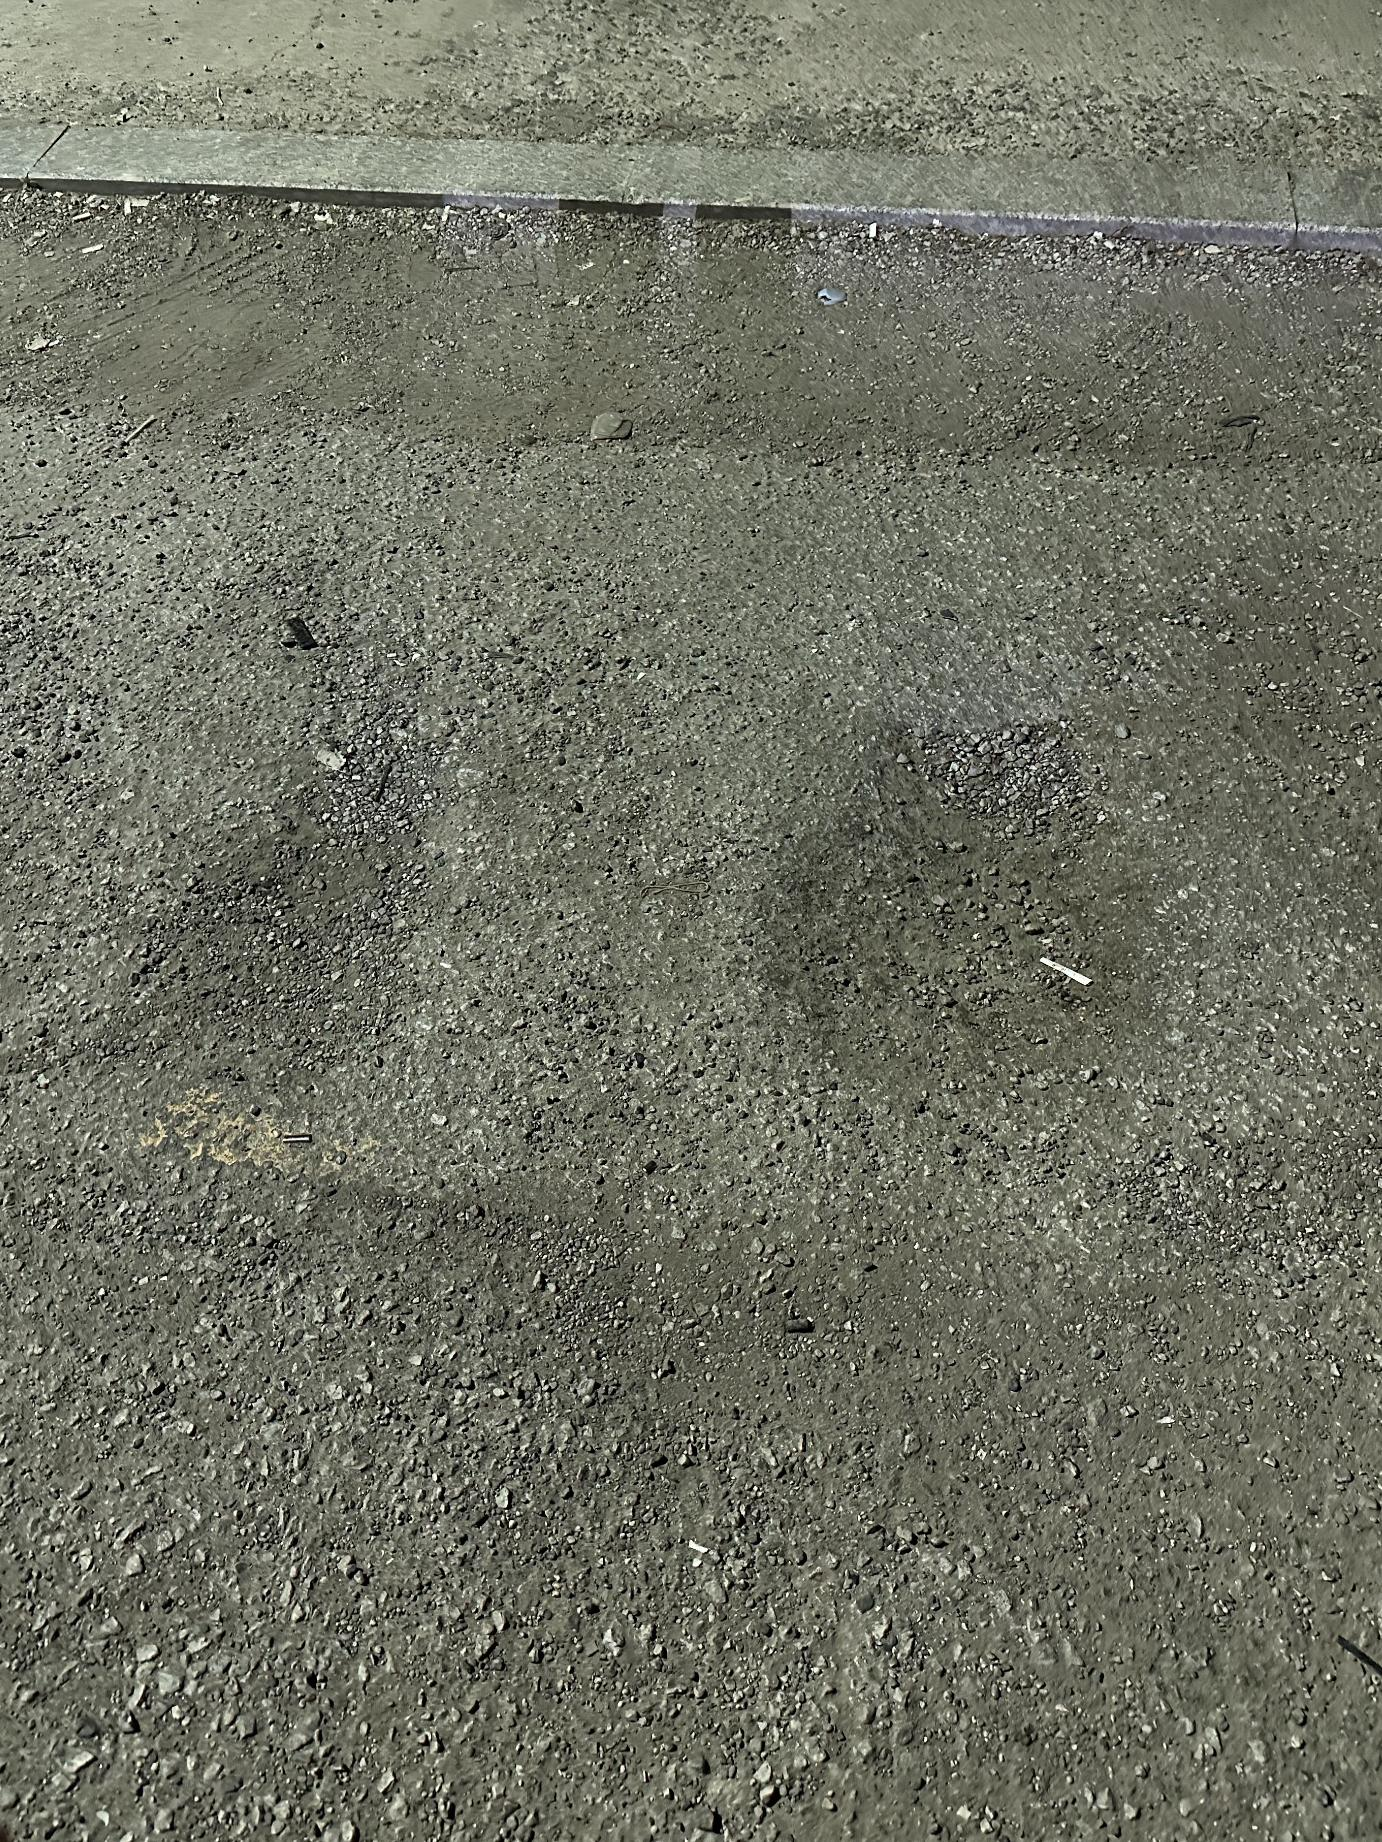pothole: (687, 710, 1202, 1154), (102, 740, 481, 1108)
